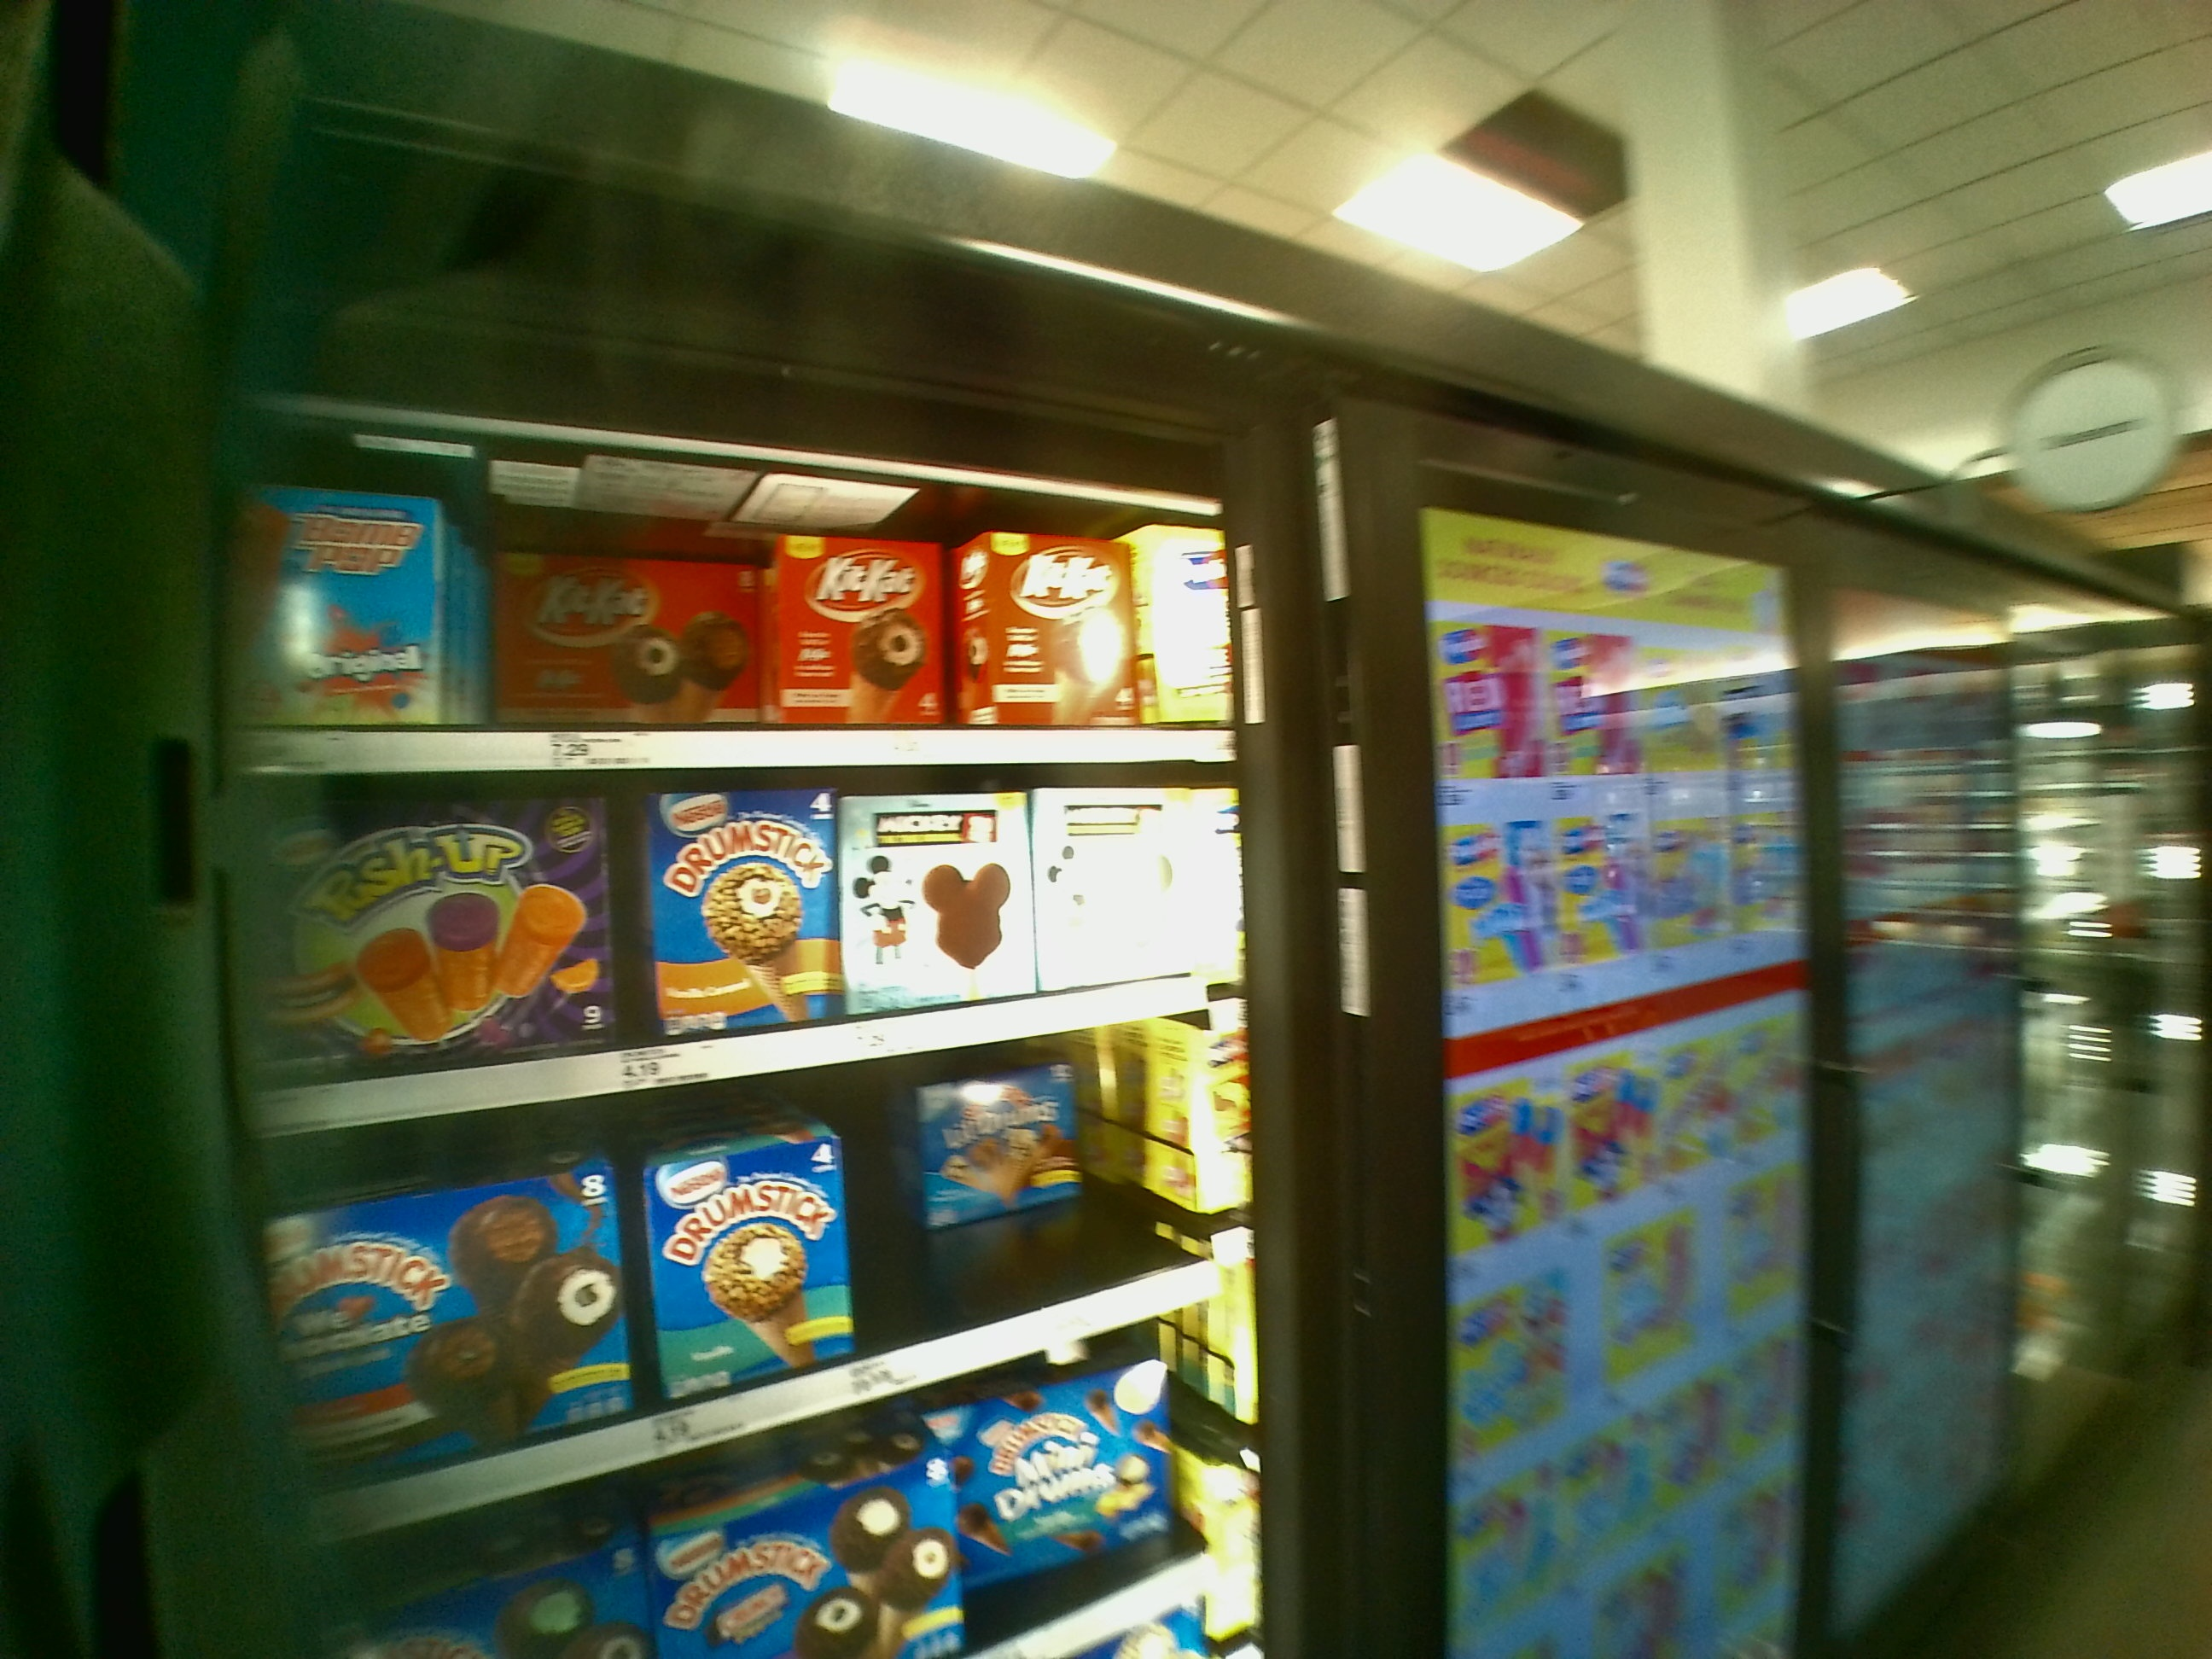shelf: (268, 1066, 1252, 1392), (246, 755, 1259, 1063), (225, 465, 1224, 774)
